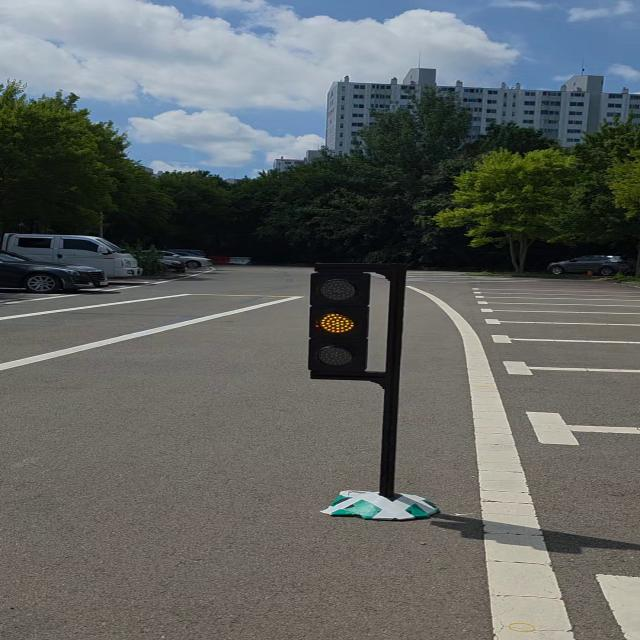yellow: (305, 266, 372, 385)
